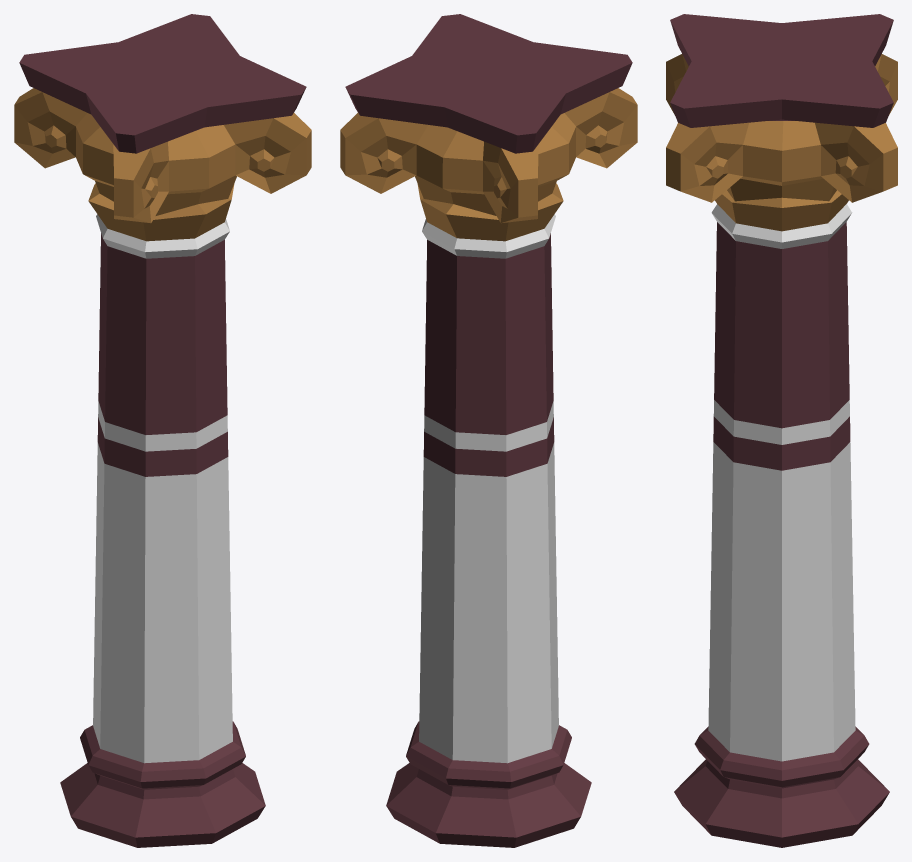
Rendered from SM_Pillar_Composite_Small_Color_Empire.fbx.
3 renders of one model, left to right at view 1: azimuth 30°, elevation 25°; view 2: azimuth 150°, elevation 25°; view 3: azimuth 270°, elevation 25°, orthographic.
Visible parts, largest first — view 1: SM_Pillar_Composite_Small_Color_Empire; view 2: SM_Pillar_Composite_Small_Color_Empire; view 3: SM_Pillar_Composite_Small_Color_Empire.
Boxes of the visible parts, box(x1,y1,x2,y2) form: SM_Pillar_Composite_Small_Color_Empire: box(14, 14, 311, 847); SM_Pillar_Composite_Small_Color_Empire: box(340, 14, 637, 847); SM_Pillar_Composite_Small_Color_Empire: box(666, 14, 897, 847).
Size of the model in its own units: 0.8462 by 3 by 0.8462.
